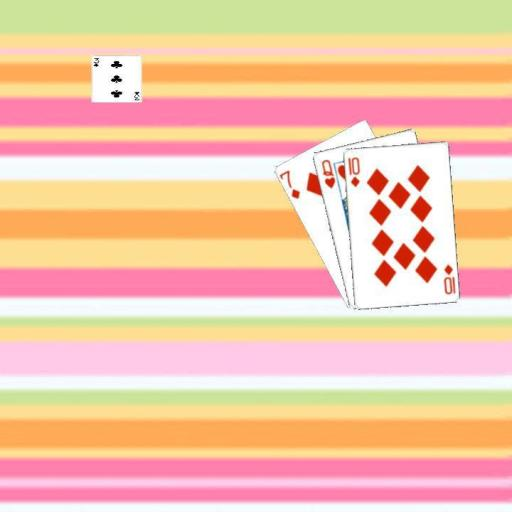card-corner: (276, 166, 302, 200), (318, 156, 336, 190), (440, 261, 457, 296), (344, 154, 361, 188)
